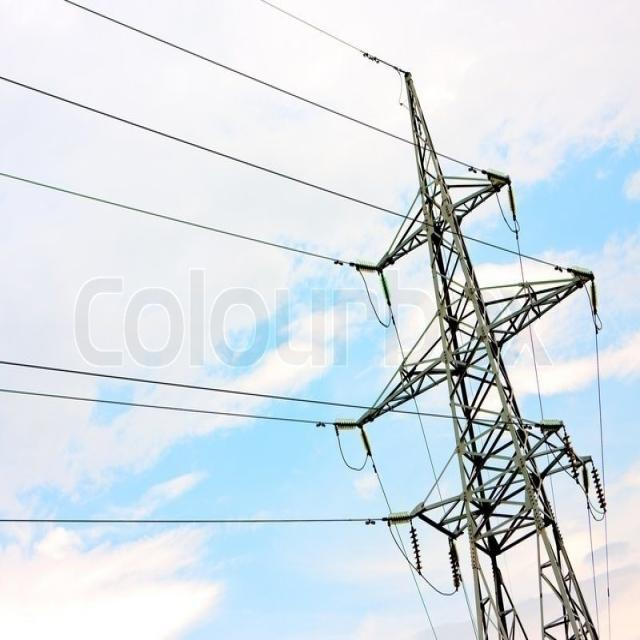non-critical vegetation: (316, 42, 618, 635)
